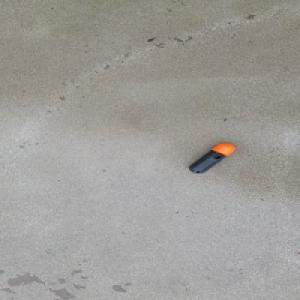PlasticPart: (187, 142, 236, 174)
